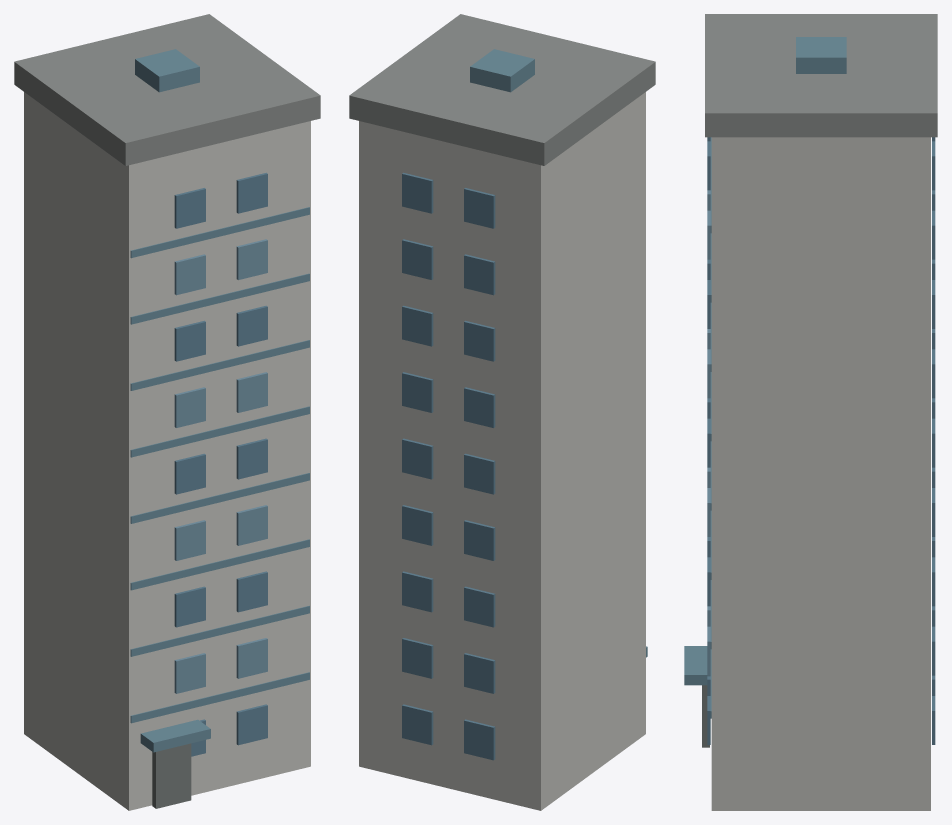
File: house_modern_1x1.glb
3 views of the same model, side by side, from view 1: azimuth 30°, elevation 25°; view 2: azimuth 150°, elevation 25°; view 3: azimuth 270°, elevation 25° (orthographic). The views are drawn at different scales.
Visible parts, largest first — view 1: house_modern_1x1; view 2: house_modern_1x1; view 3: house_modern_1x1.
Boxes of the visible parts, x1=… form: house_modern_1x1: x1=14, y1=14, x2=320, y2=810; house_modern_1x1: x1=349, y1=14, x2=655, y2=810; house_modern_1x1: x1=684, y1=14, x2=937, y2=810.
Bounding box in the file's own units: 1.69 × 5.69 × 1.82.
